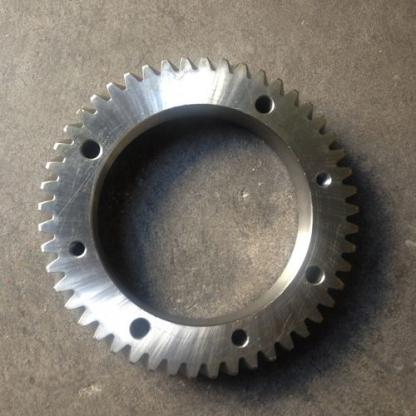FOD: (35, 52, 365, 385)
